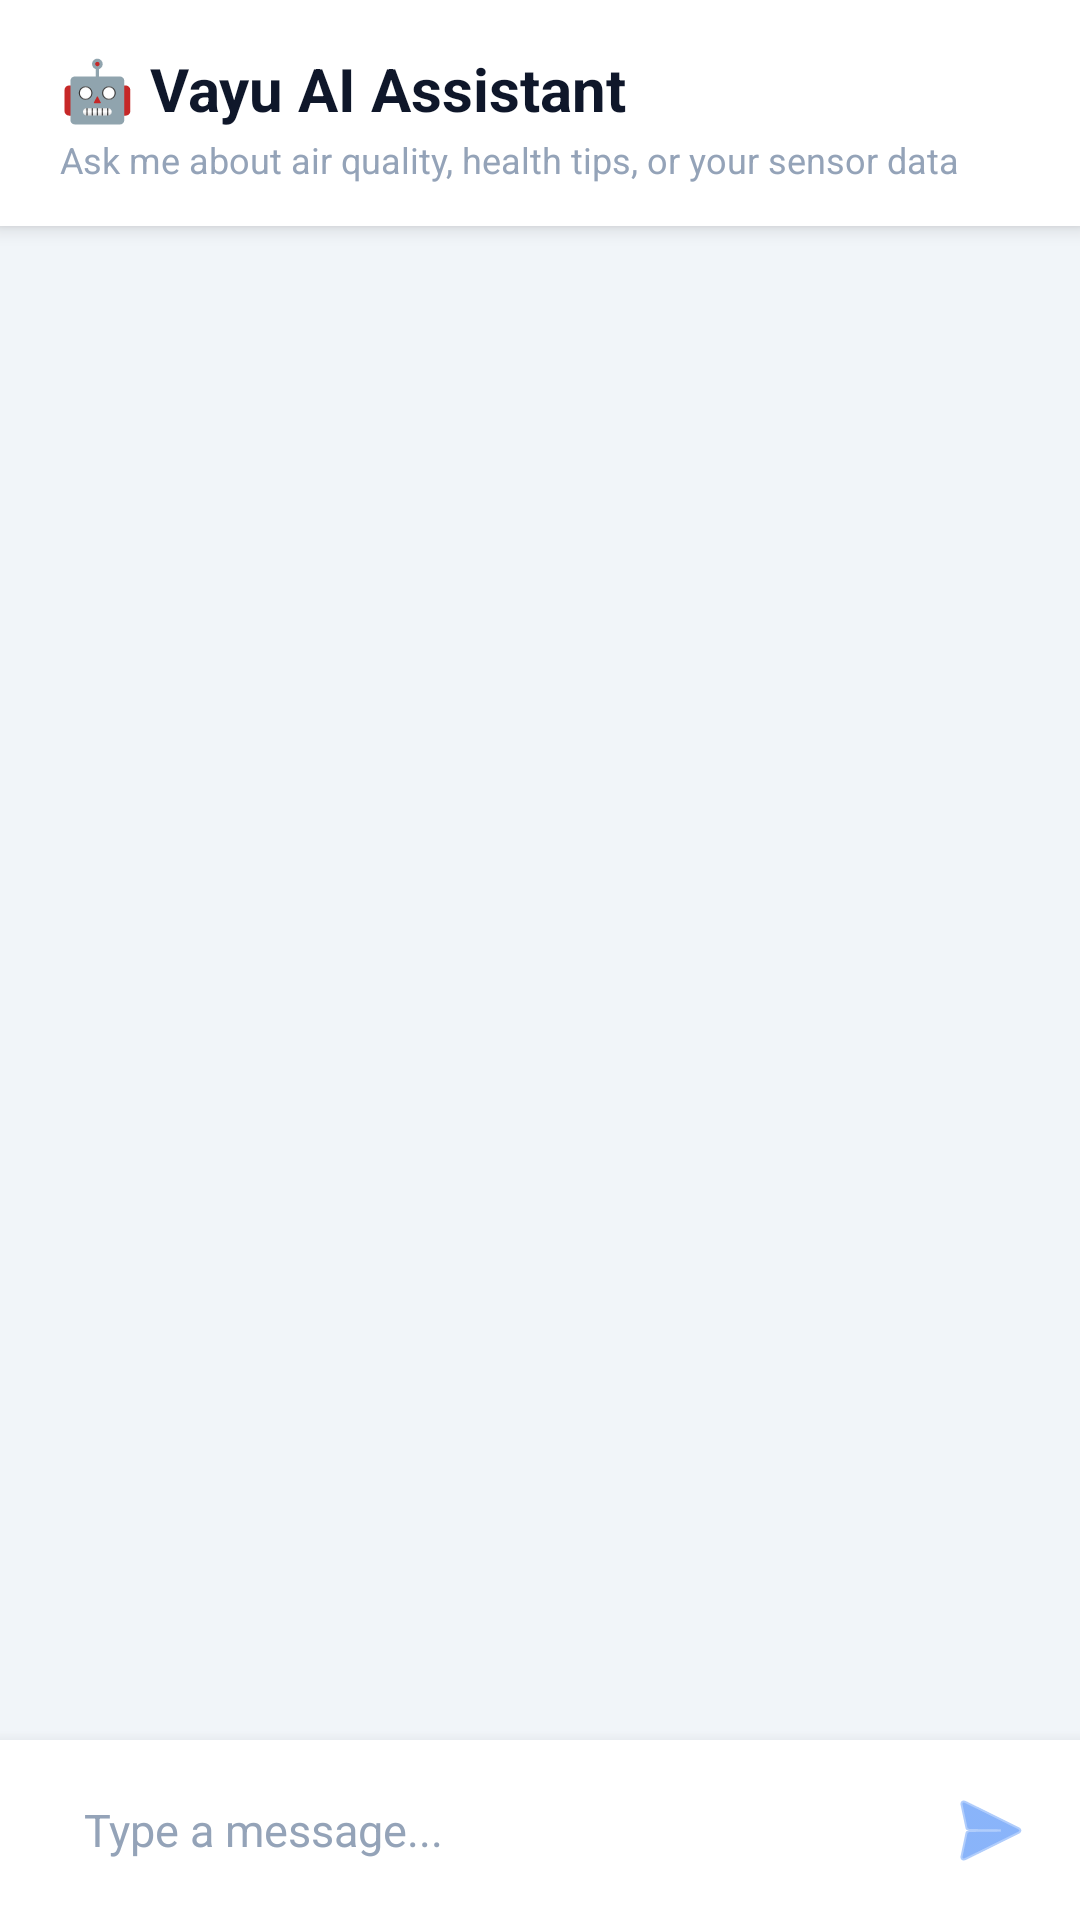

Named icons in this screenshot (1080 × 1920) and their bounding boxes, [x1, y1, x2, y2]:
Send: [960, 1800, 1022, 1861]
